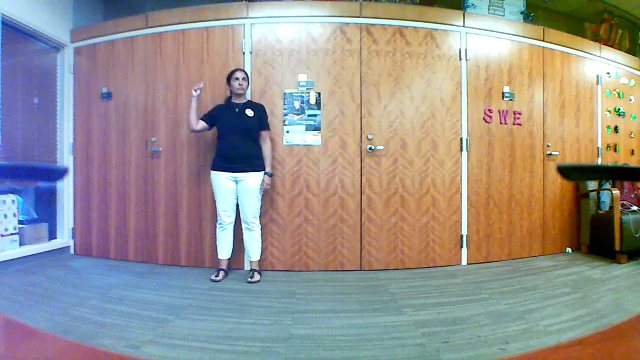up: (184, 74, 207, 101)
